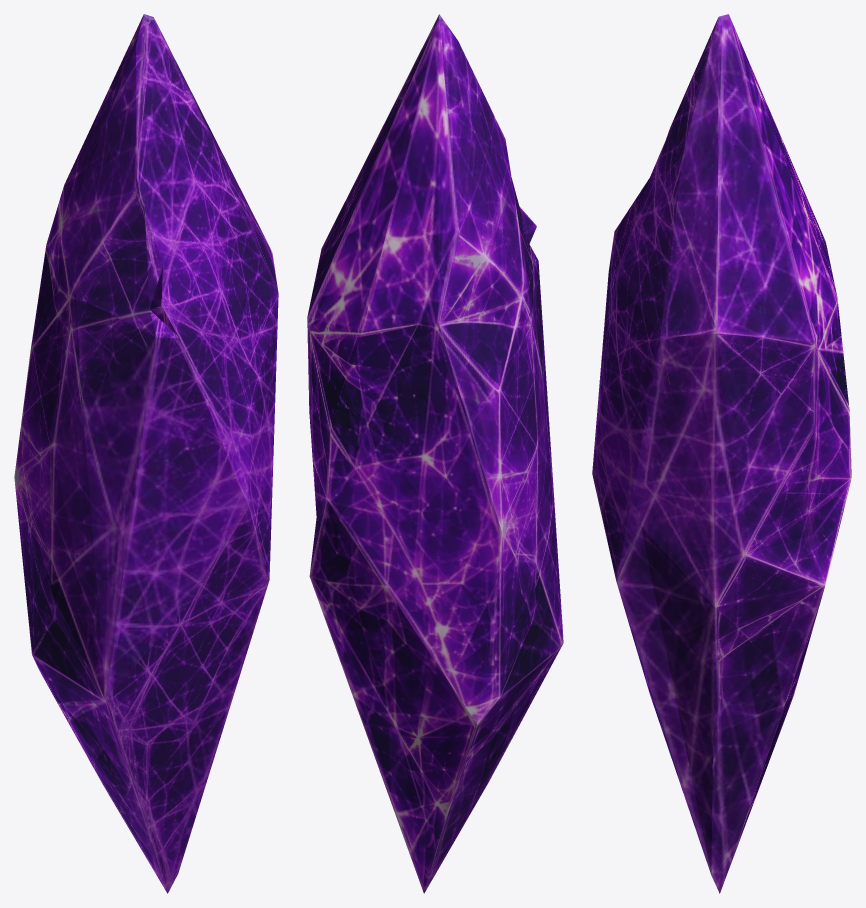
File: crystal-cut.glb
3 views of the same model, side by side, from view 1: azimuth 30°, elevation 25°; view 2: azimuth 150°, elevation 25°; view 3: azimuth 270°, elevation 25° (orthographic).
Parts seen in each view (by area): view 1: output_unwrapped; view 2: output_unwrapped; view 3: output_unwrapped.
Boxes of the visible parts, <box> form: output_unwrapped: <box>14,14,278,893</box>; output_unwrapped: <box>307,14,563,893</box>; output_unwrapped: <box>592,14,851,893</box>.
Bounding box in the file's own units: 0.4938 × 1.9 × 0.5132.
Materials: 1 (1 with a texture image).
